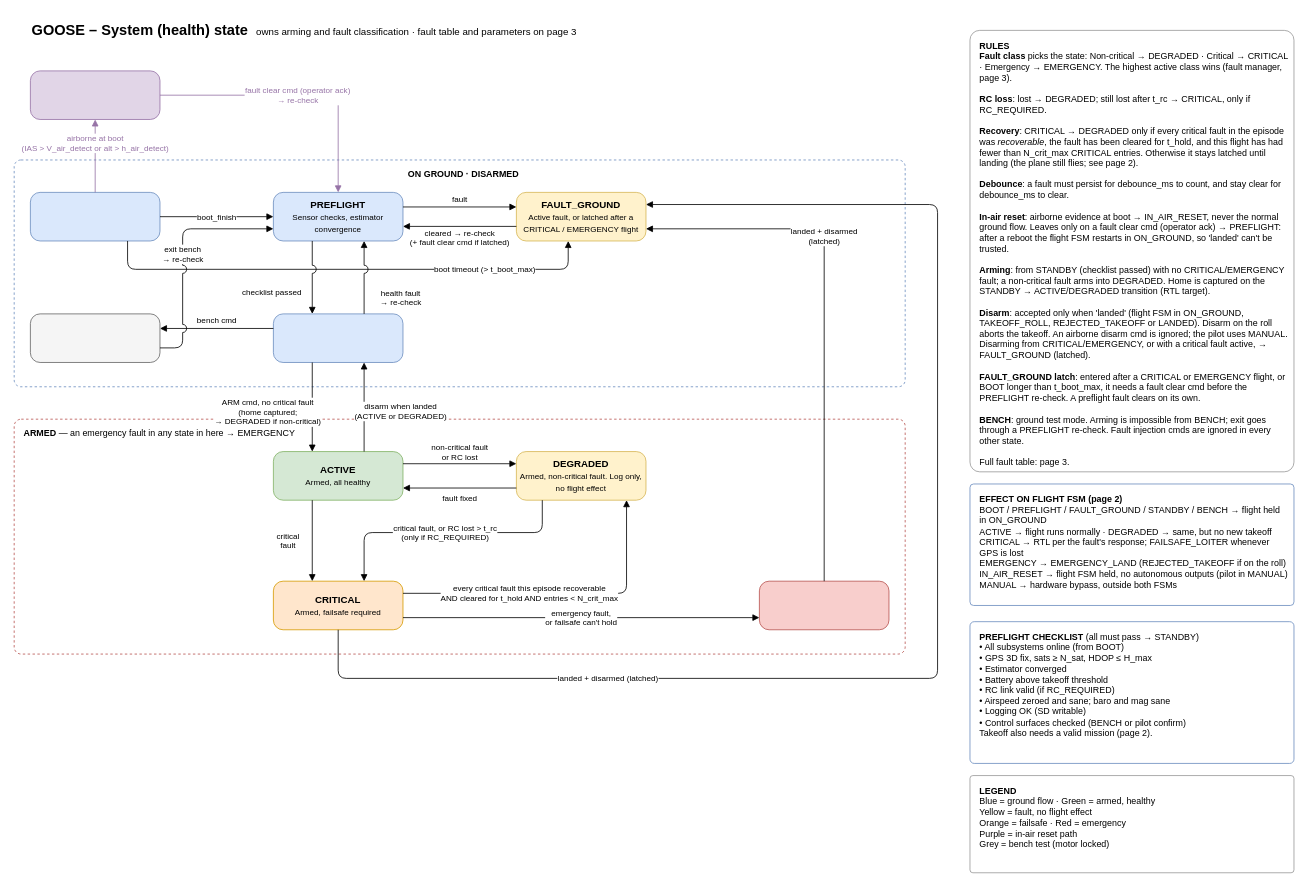
This 1308x887 diagram has some shape labels left out. The shapes that lost their labels are listed below. From the top down, each one's box as (x1, y1, x2, y2) in pixels, then its label:
(30, 70, 160, 119): IN_AIR_RESET Rebooted airborne. Disarmed, pilot flies MANUAL, logging only
(30, 192, 160, 241): BOOT Subsystems coming online (bring-up sub-FSMs)
(30, 313, 160, 362): BENCH Motor locked, servos live. Fault injection only here
(273, 313, 403, 362): STANDBY All systems healthy, ready to arm
(759, 580, 889, 630): EMERGENCY Armed, flight cannot continue safely
